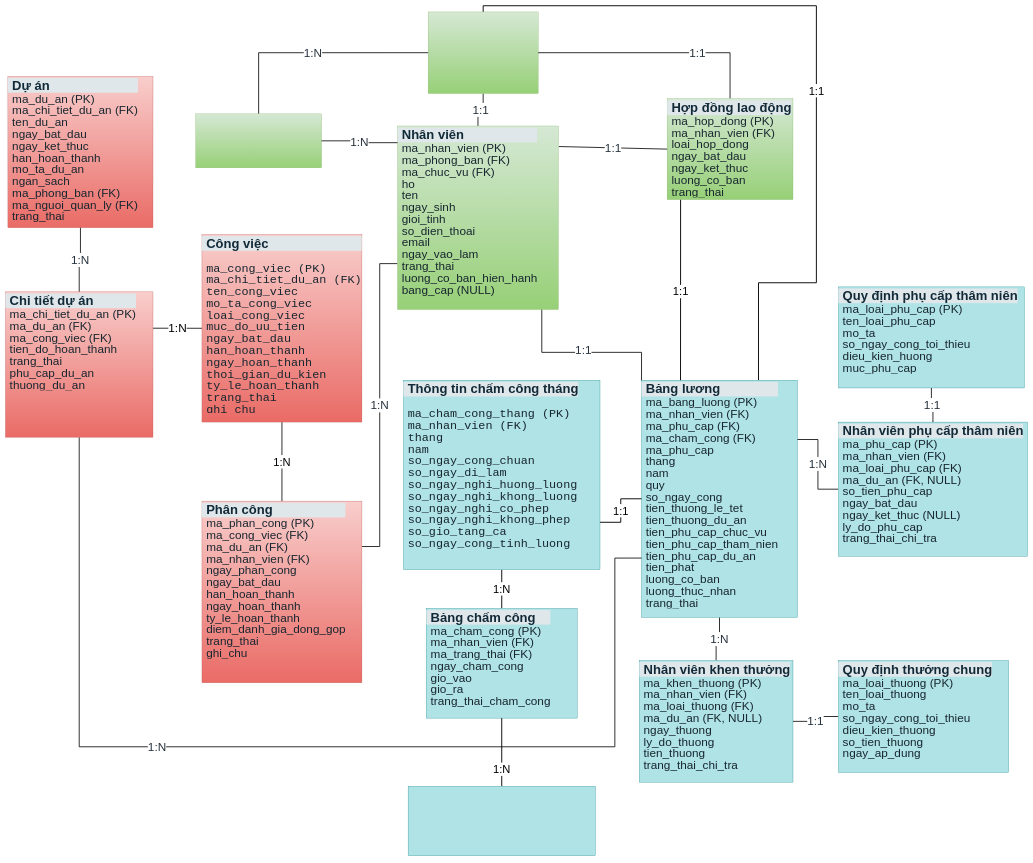
Image size: 1033x863. Some labels were removed from this diagram. The centre of each missing label's shape, as x and y in pixels:
Bảng trạng thái chấm công ma_trang_thai (PK) trang_thai_cham_cong mo_ta: (501,821)
Chức vụ ma_chuc_vu (PK) ten_chuc_vu mo_ta phu_cap_chuc_vu: (483,52)
Phòng ban ma_phong_ban (PK) ten_phong_ban mo_ta: (258,141)
